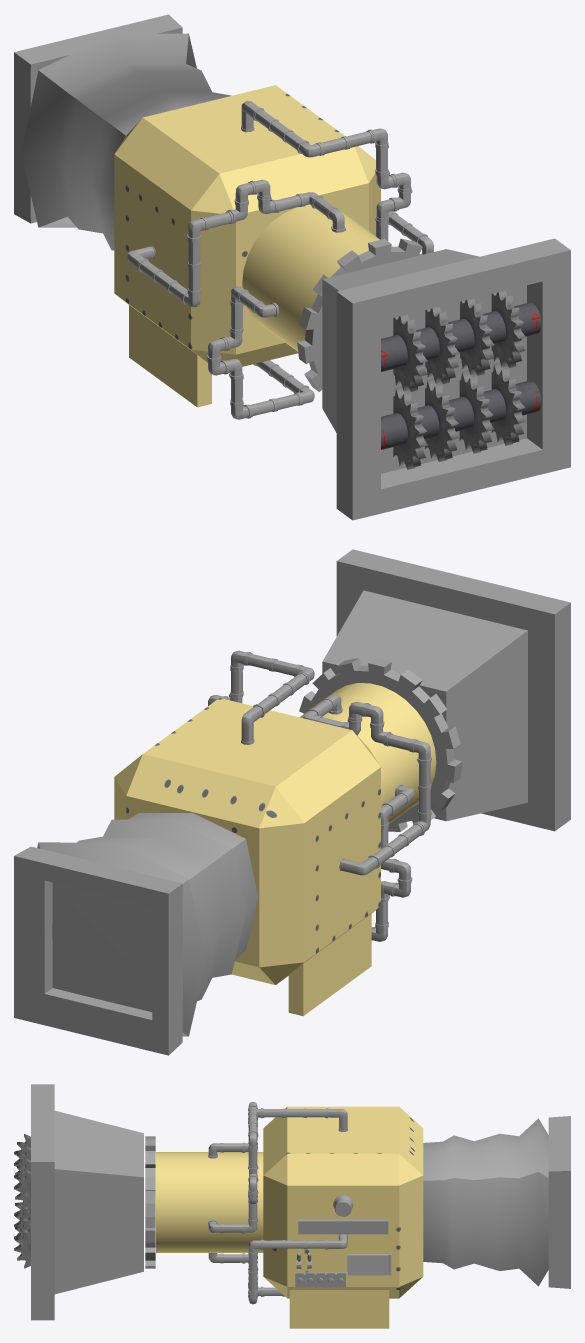
Rendered from IDM_Woodchiper_3_Fixed_Pivots.fbx.
3 renders of one model, top to bottom at view 1: azimuth 30°, elevation 25°; view 2: azimuth 150°, elevation 25°; view 3: azimuth 270°, elevation 25°, orthographic. The views are drawn at different scales.
Visible parts, largest first — view 1: Main_Body, Funnel, Box_Cannon, Pipes, Blades_2, Blades_1, Gear; view 2: Main_Body, Box_Cannon, Funnel, Pipes, Gear; view 3: Main_Body, Box_Cannon, Funnel, Pipes, Gear, Label, Blades_1, Panel_Door, Blades_2, _Button_Panel, Light1.
Boxes of the visible parts, bbox=[...] form: Main_Body: bbox=[114, 85, 380, 407]; Funnel: bbox=[322, 238, 570, 520]; Box_Cannon: bbox=[14, 14, 231, 250]; Pipes: bbox=[127, 101, 433, 419]; Blades_2: bbox=[381, 362, 541, 469]; Blades_1: bbox=[381, 290, 541, 391]; Gear: bbox=[297, 238, 432, 391]; Main_Body: bbox=[114, 683, 436, 1016]; Box_Cannon: bbox=[14, 813, 258, 1055]; Funnel: bbox=[322, 549, 570, 831]; Pipes: bbox=[208, 650, 431, 941]; Gear: bbox=[299, 657, 462, 831]; Main_Body: bbox=[156, 1106, 423, 1328]; Box_Cannon: bbox=[423, 1116, 570, 1288]; Funnel: bbox=[31, 1084, 143, 1320]; Pipes: bbox=[208, 1102, 347, 1304]; Gear: bbox=[145, 1136, 155, 1268]; Label: bbox=[298, 1219, 388, 1234]; Blades_1: bbox=[14, 1134, 30, 1214]; Panel_Door: bbox=[347, 1253, 391, 1275]; Blades_2: bbox=[14, 1202, 30, 1268]; _Button_Panel: bbox=[295, 1272, 345, 1288]; Light1: bbox=[333, 1195, 353, 1216].
Bounding box in the file's own units: 230 × 232 × 619.
